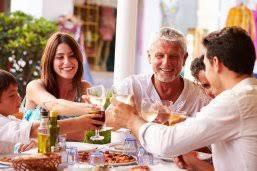Drunk: (154, 41, 183, 80), (53, 44, 78, 78)
